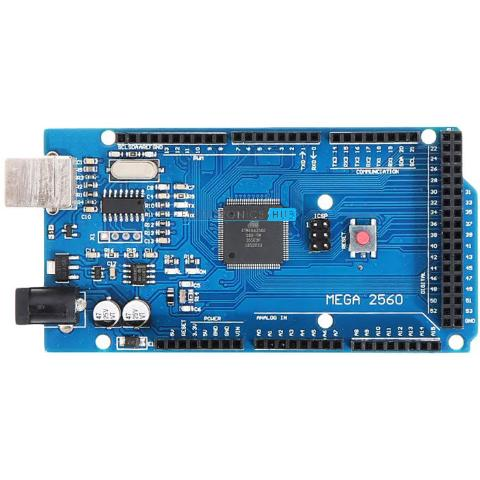Arduino-Mega: (4, 125, 480, 359)
